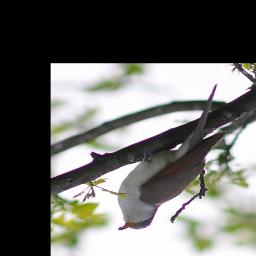Cuckoo: (116, 81, 228, 231)
